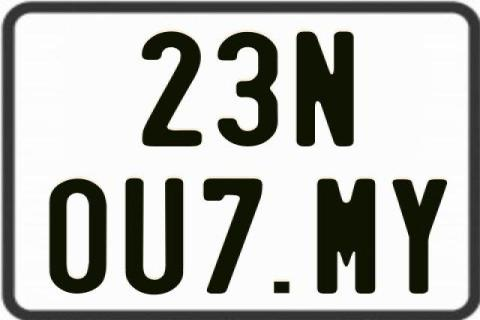0: (218, 32, 283, 150), (202, 176, 266, 292), (142, 30, 203, 148), (49, 177, 110, 293)
M: (315, 178, 374, 296)
N: (296, 32, 357, 150)
U: (122, 178, 184, 298)
Y: (391, 180, 446, 294)
